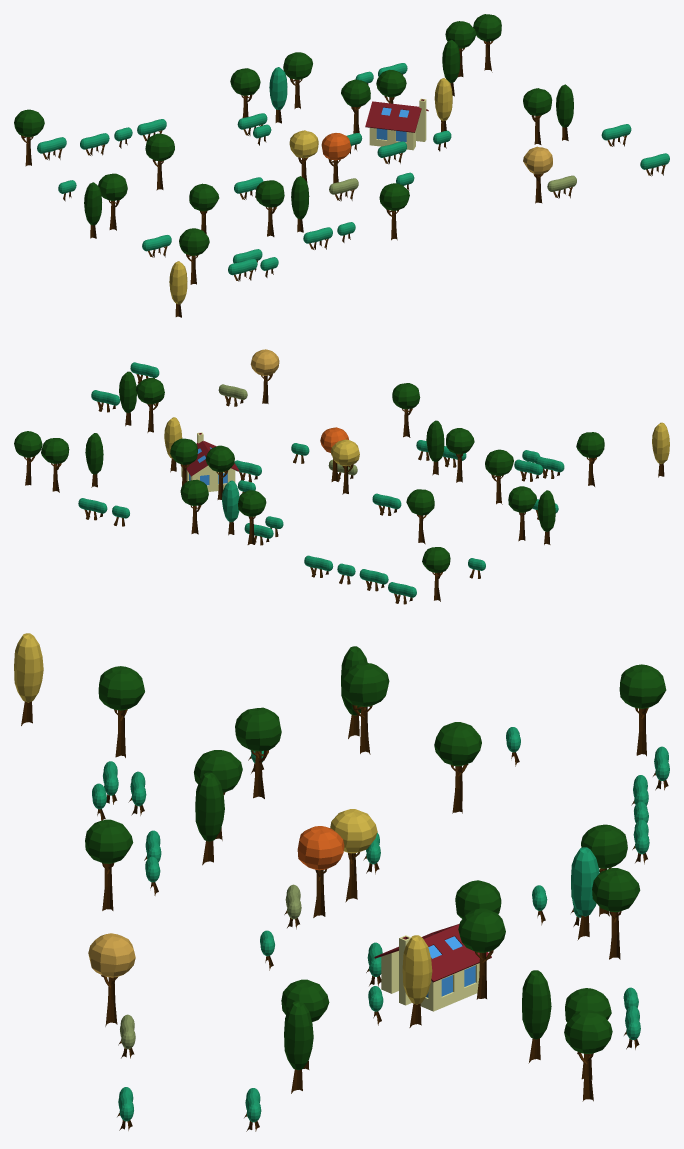
File: enviroment_carpetracer.glb
The picture shows the model from 3 angles, top to bottom: view 1: azimuth 30°, elevation 25°; view 2: azimuth 150°, elevation 25°; view 3: azimuth 270°, elevation 25°; orthographic projection. The views are drawn at different scales.
Parts seen in each view (by area): view 1: Plane.016; view 2: Plane.016; view 3: Plane.016.
Boxes of the visible parts, box(x1,y1,x2,y2) form: Plane.016: box(14, 14, 669, 317); Plane.016: box(14, 349, 669, 604); Plane.016: box(14, 633, 669, 1131).
Size of the model in its own units: 197 by 21.68 by 132.
